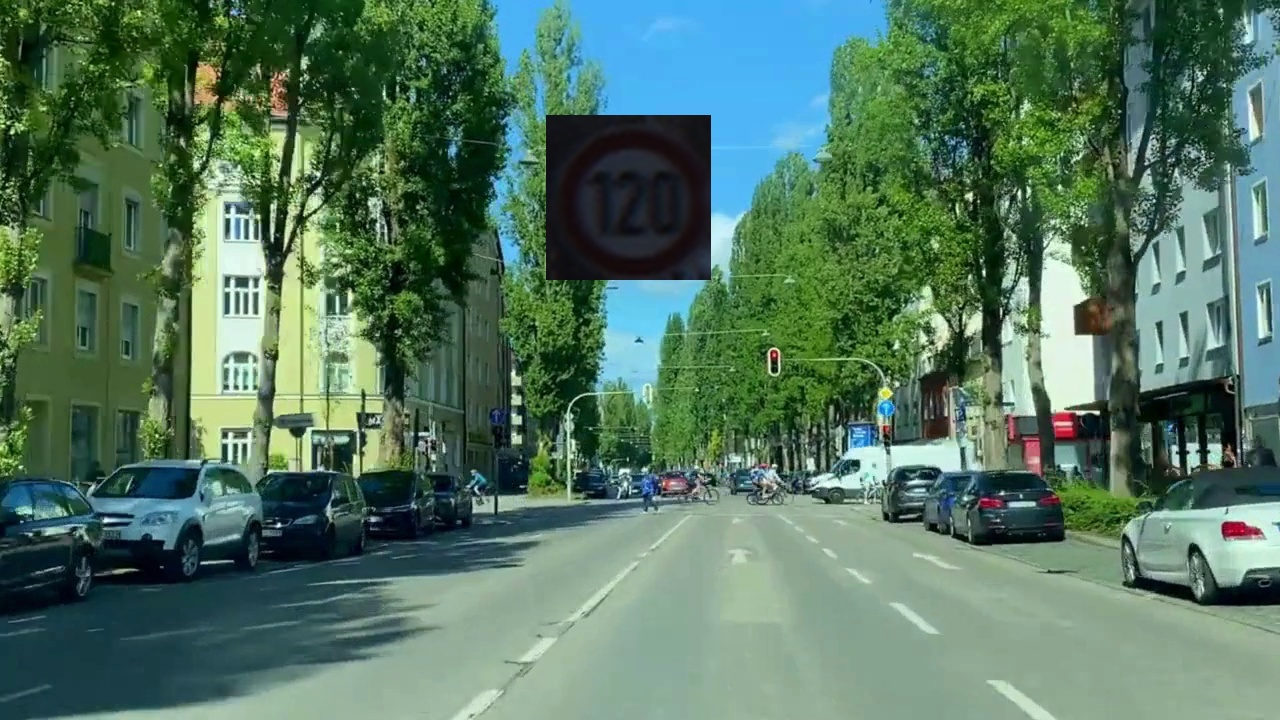Speed 120: (546, 115, 711, 280)
